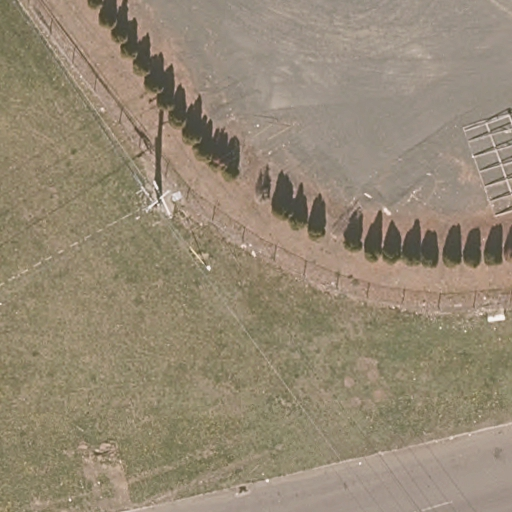DT: (144, 181, 174, 219)
